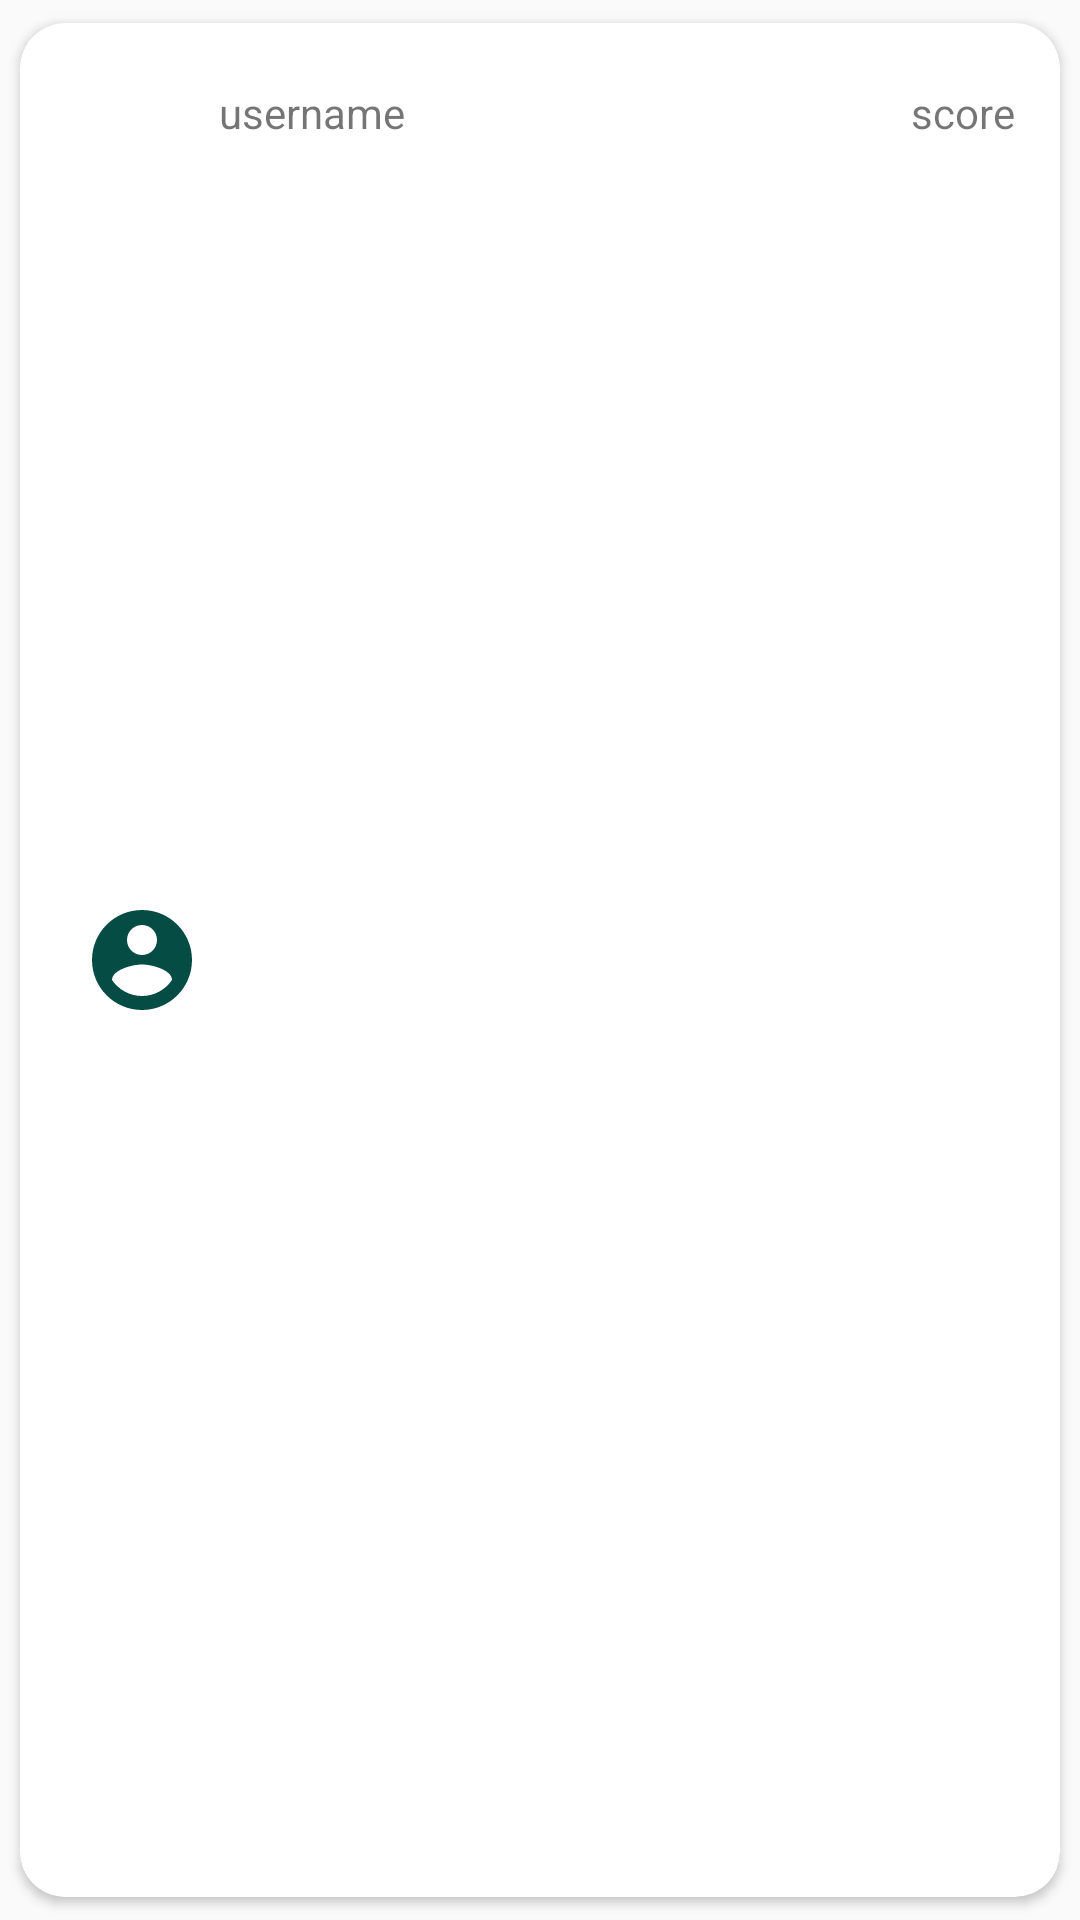

Named icons in this screenshot (1080 x 1920) and their bounding boxes, bbox=(x1, y1, x2, y2):
account circle: bbox=(92, 910, 192, 1010)
